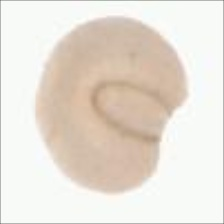L5: (88, 77, 172, 143), (33, 37, 66, 115)
L6: (31, 14, 191, 196)
